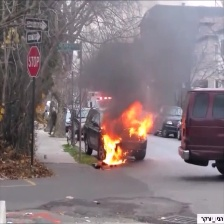fire: (95, 97, 154, 169)
